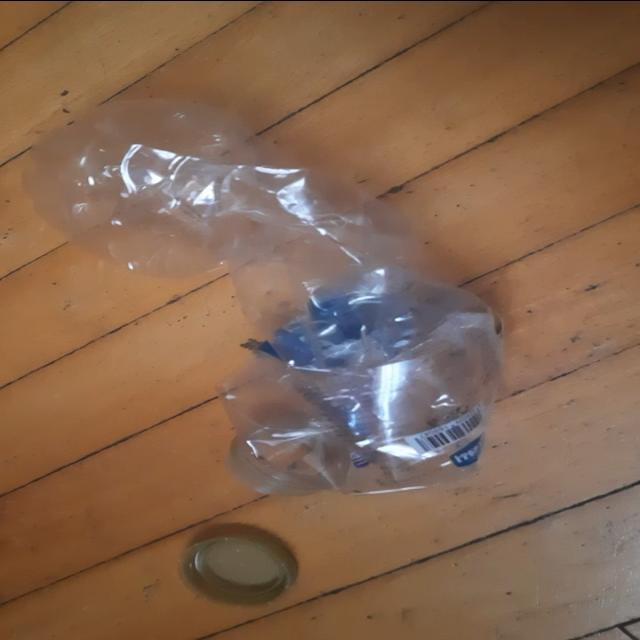Plastic: (21, 98, 503, 496)
